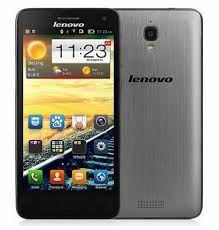lenovo: (11, 4, 119, 222), (119, 6, 204, 221)
